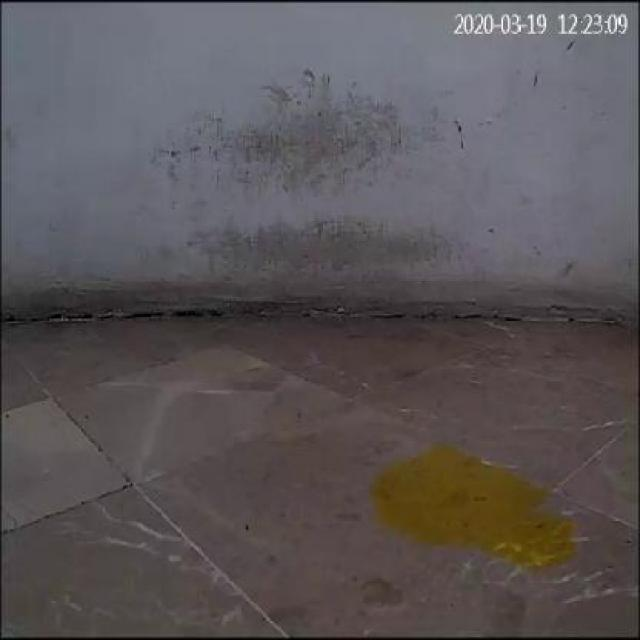spill: (368, 444, 578, 572)
